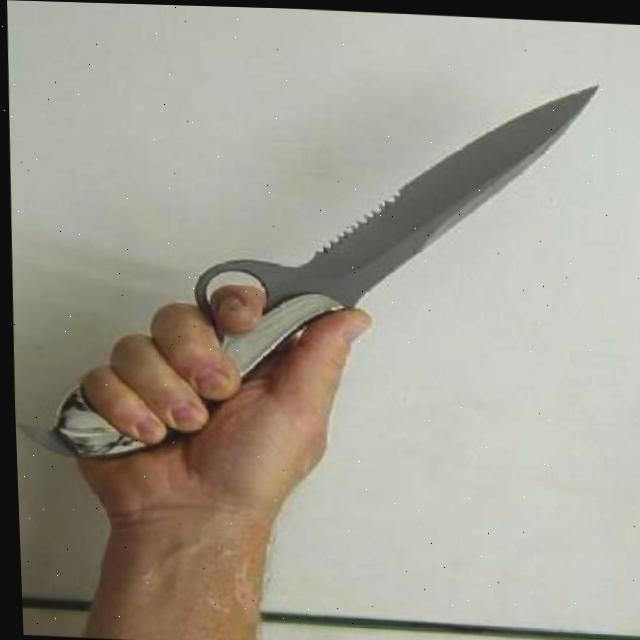knife: (1, 58, 606, 480)
